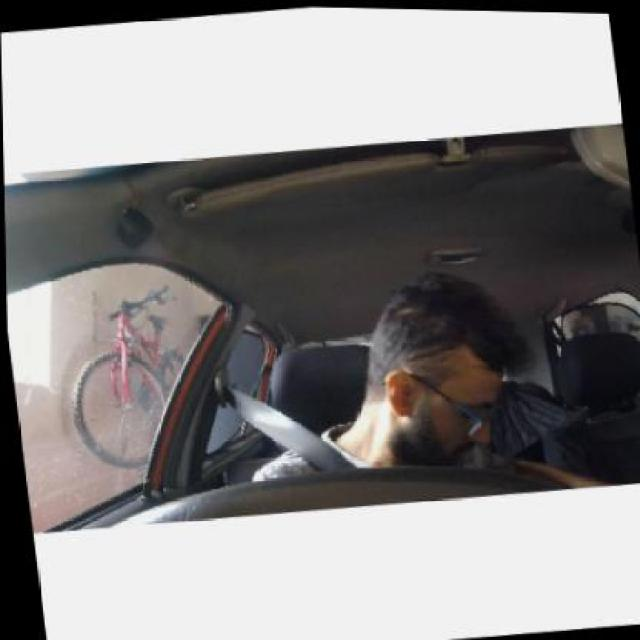drowsy: (368, 277, 517, 465)
